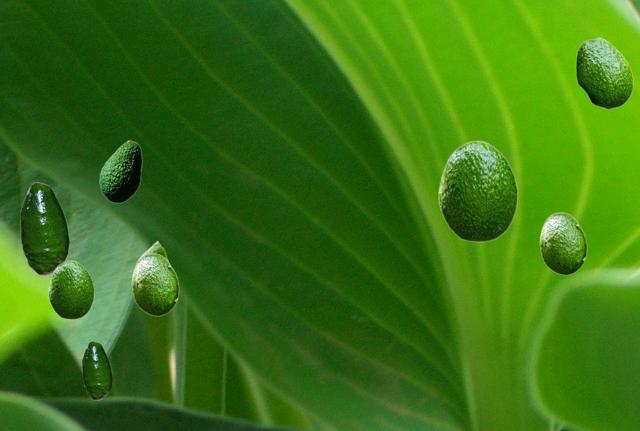avocado: (438, 140, 517, 241), (20, 182, 68, 274), (575, 37, 632, 108), (131, 253, 178, 315), (539, 212, 586, 274), (48, 260, 93, 318), (99, 140, 141, 202), (82, 341, 111, 399), (138, 240, 168, 259)
